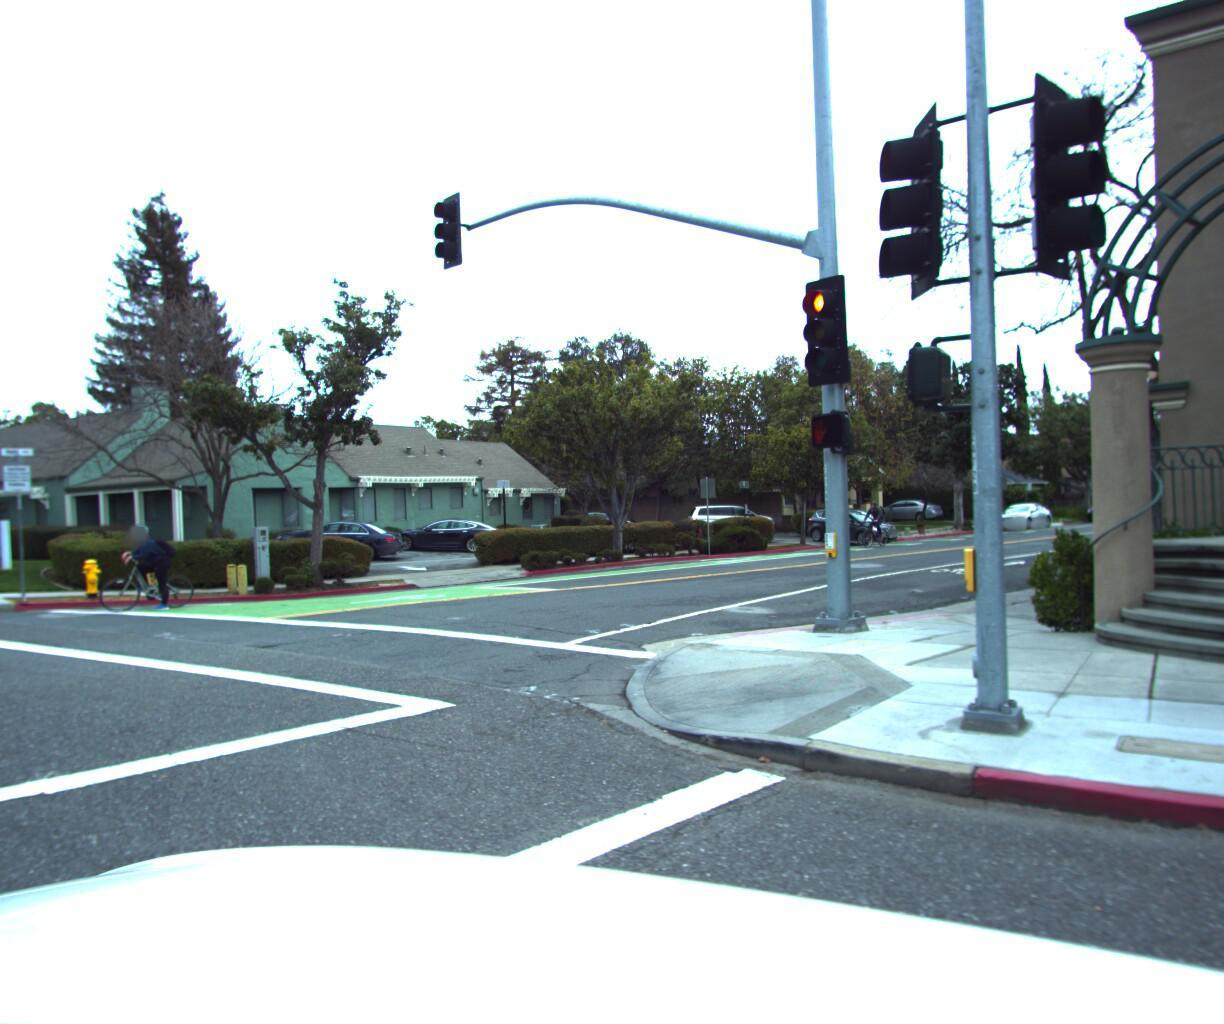bicycle: (77, 520, 215, 620), (847, 491, 897, 541)
car: (271, 509, 411, 563), (385, 508, 505, 551), (800, 503, 904, 540), (683, 494, 773, 532), (983, 493, 1056, 527), (873, 491, 947, 520)
